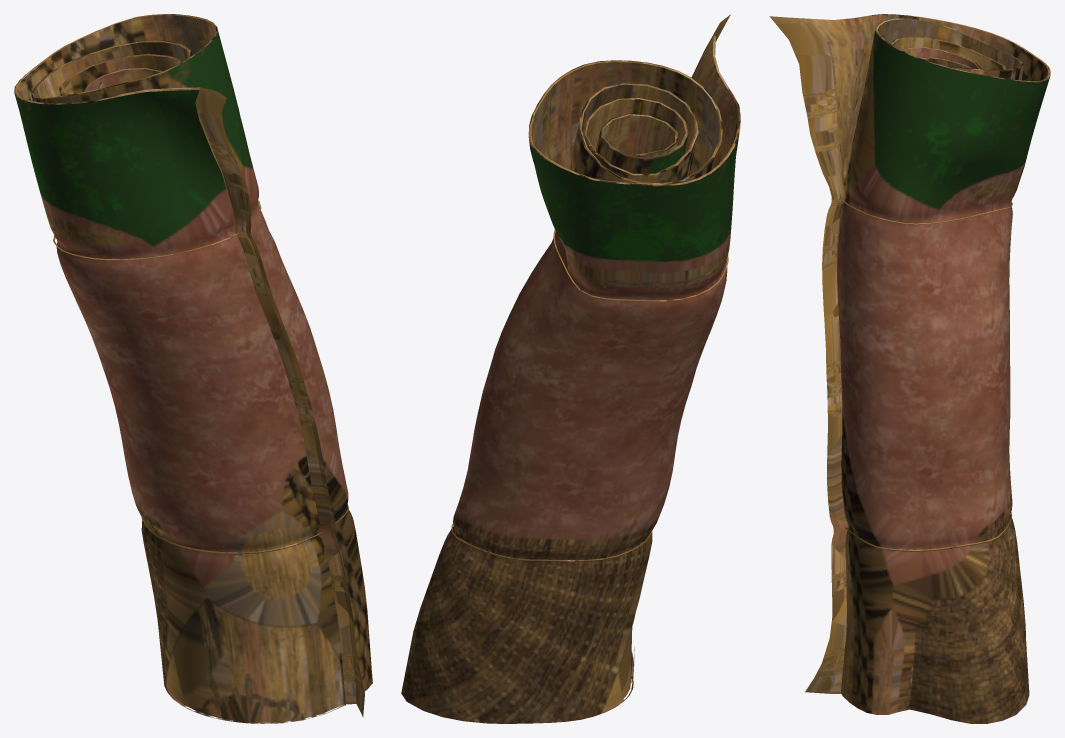
The model's file is xi_oam_rolled_carpet.gltf.
The picture shows the model from 3 angles, left to right: view 1: azimuth 30°, elevation 25°; view 2: azimuth 150°, elevation 25°; view 3: azimuth 270°, elevation 25°; orthographic projection. The views are drawn at different scales.
Visible parts, largest first — view 1: xi_oam_rolled_carpet; view 2: xi_oam_rolled_carpet; view 3: xi_oam_rolled_carpet.
Boxes of the visible parts, x1=… form: xi_oam_rolled_carpet: x1=14, y1=14, x2=372, y2=723; xi_oam_rolled_carpet: x1=401, y1=14, x2=740, y2=723; xi_oam_rolled_carpet: x1=769, y1=14, x2=1050, y2=723.
Bounding box in the file's own units: 1 × 2 × 0.8383.
1 material, 1 textured.
